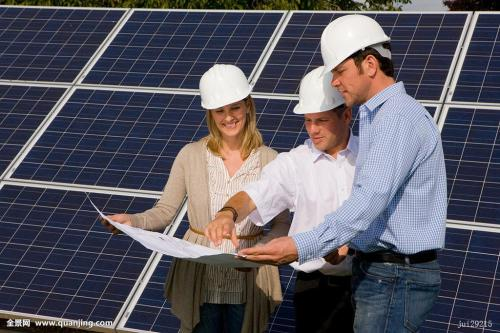hard-hat: (320, 13, 390, 73), (293, 64, 346, 114), (199, 63, 251, 110)
person: (230, 13, 448, 333), (100, 63, 284, 333), (204, 65, 359, 333)
